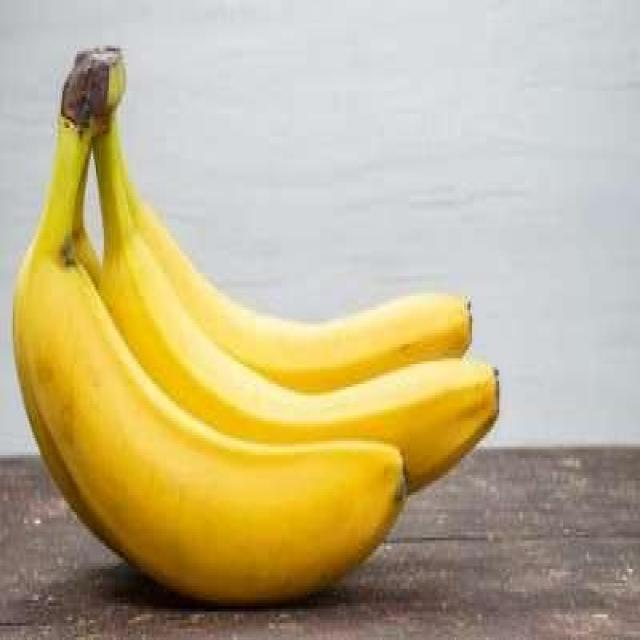Banana: (13, 125, 405, 600), (94, 122, 498, 489), (133, 185, 470, 387)
